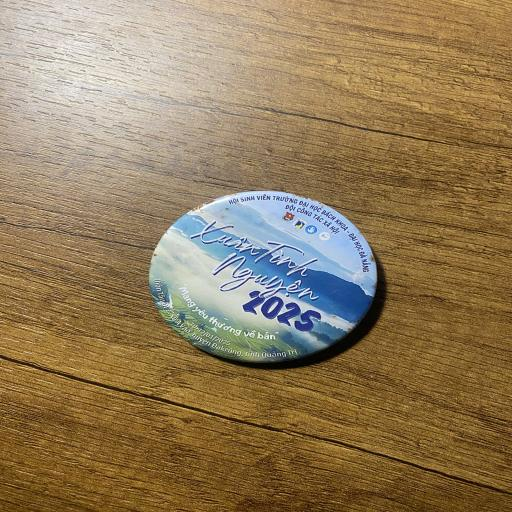HH: (148, 191, 380, 364)
